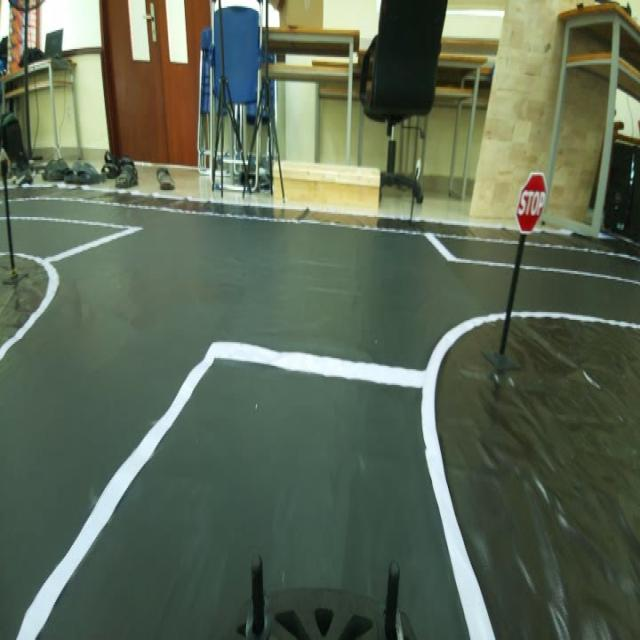stop: (518, 161, 550, 246)
